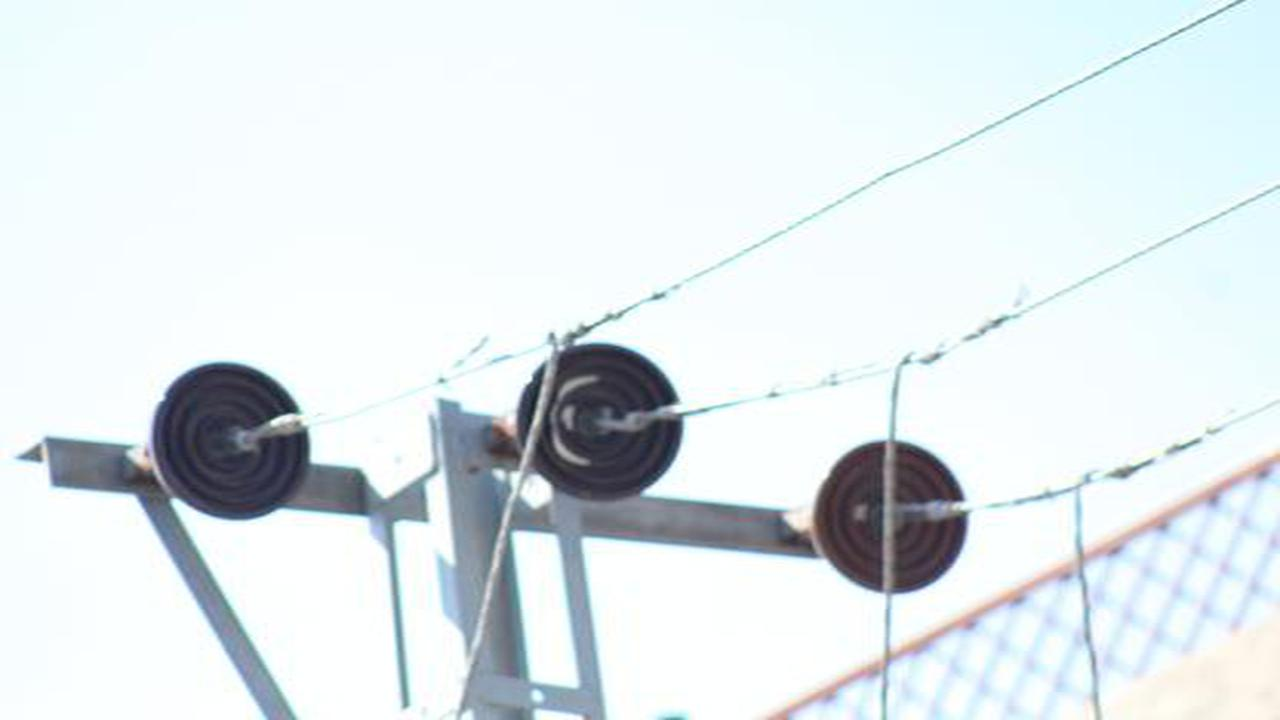insulator_disc: (149, 359, 313, 528), (515, 342, 687, 501), (814, 439, 971, 593)
